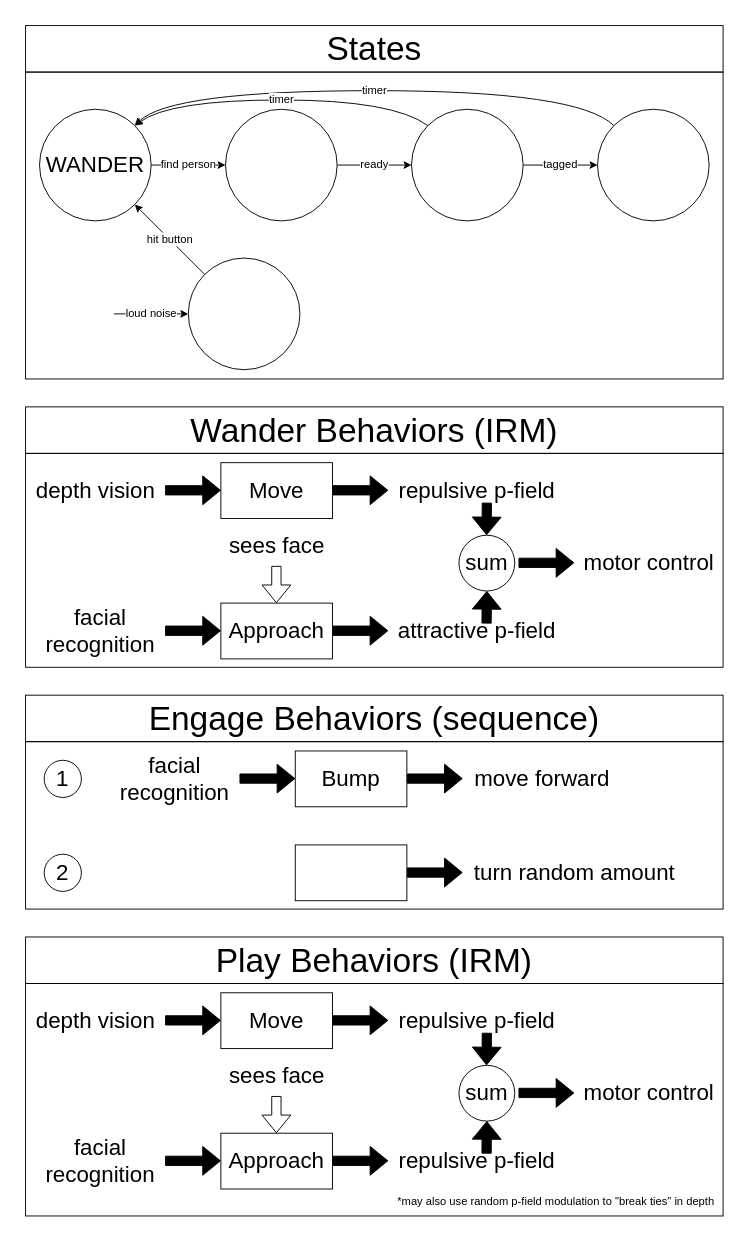
The diagram is 748 pixels wide and 1241 high, and some of its shapes have lost their labels. The shapes that lost their labels are listed below. From the top down, each one's centre as x and y in pixels, then its label:
At [281,164]: "ENGAGE".
At [467,164]: "PLAY".
At [653,164]: "SLEEP".
At [243,313]: "DEBUG".
At [350,872]: "Turn Around".
